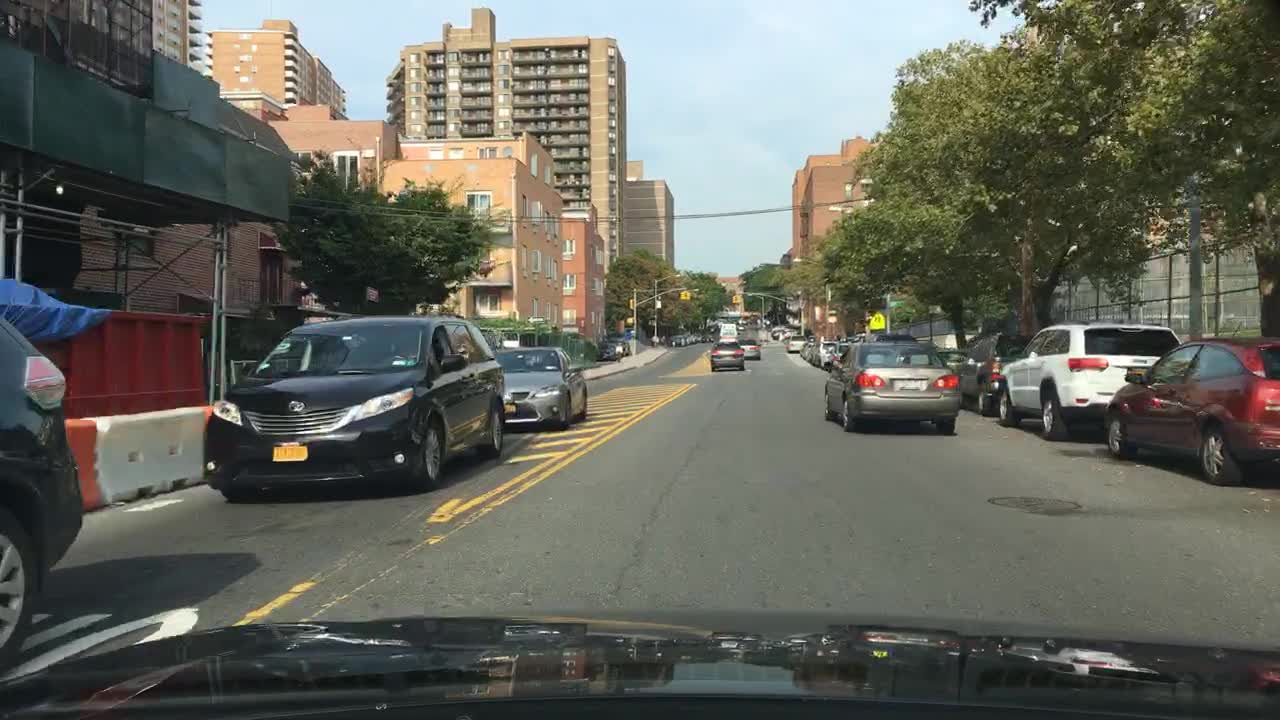car: (201, 313, 507, 505), (0, 313, 85, 666), (1106, 335, 1280, 487), (997, 321, 1183, 440), (823, 338, 964, 432), (491, 345, 589, 429), (956, 329, 1036, 415), (709, 337, 746, 372), (851, 328, 919, 343), (937, 347, 969, 377), (812, 337, 840, 368), (828, 340, 854, 372), (596, 338, 622, 361), (739, 337, 763, 360), (785, 333, 809, 354), (610, 336, 631, 358), (807, 337, 821, 365), (798, 335, 814, 358), (755, 327, 772, 343), (718, 322, 737, 336), (782, 327, 801, 341), (769, 322, 785, 338), (749, 314, 766, 328), (667, 335, 686, 346), (748, 315, 763, 327), (735, 322, 751, 332), (695, 331, 707, 343), (688, 331, 700, 343), (762, 318, 775, 328), (704, 331, 716, 341), (682, 333, 693, 343), (737, 317, 749, 324)
traffic light: (629, 296, 641, 311), (678, 288, 691, 301), (732, 293, 743, 306), (627, 316, 638, 325)
traffic sign: (870, 310, 888, 331), (365, 284, 380, 302), (828, 309, 838, 324), (654, 299, 664, 310)
